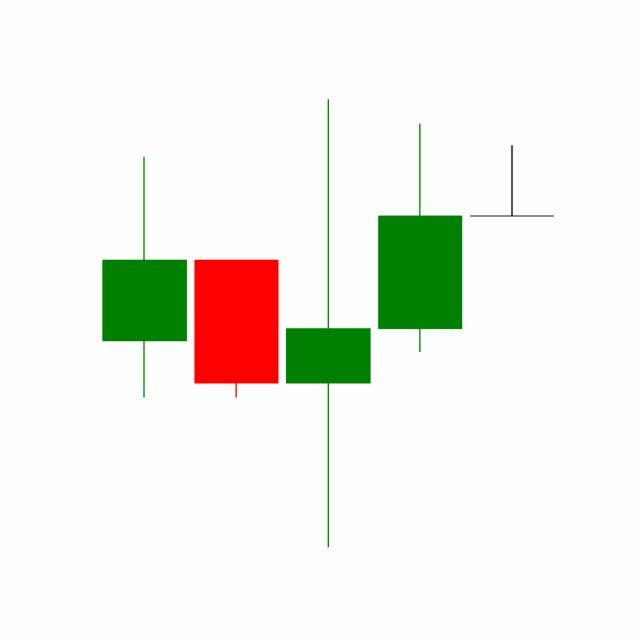Gravestone Doji: (466, 145, 559, 218)
